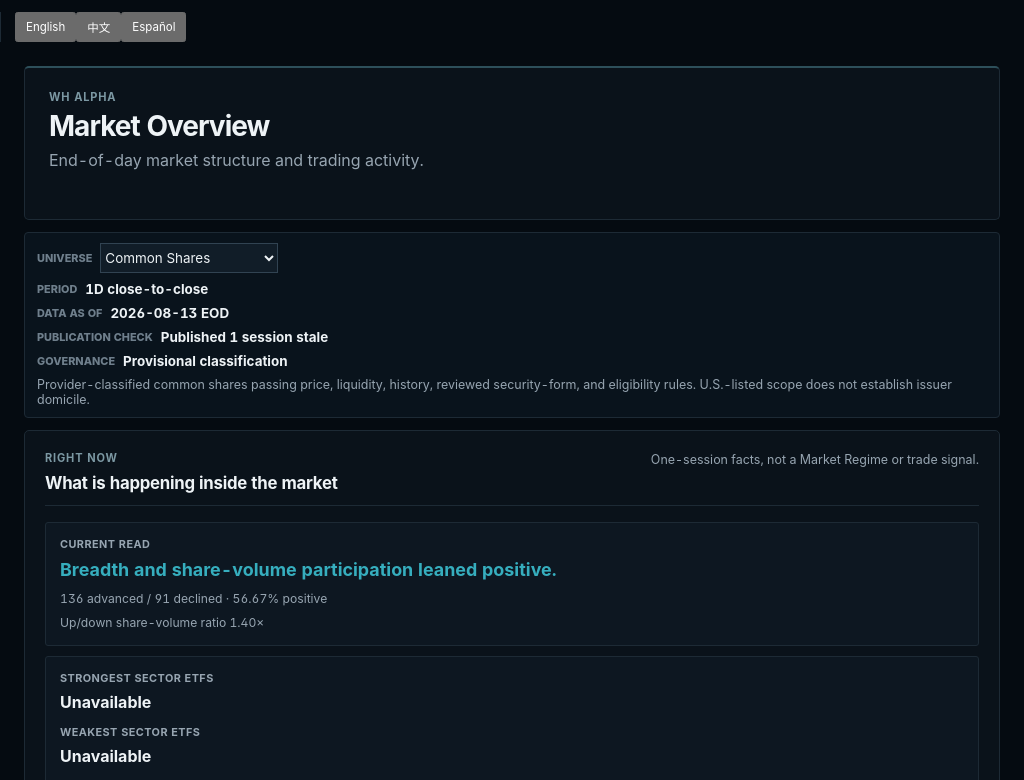
Test case: MarketDashboardPage › renders the identical dashboard data in Chinese without issuing new analytics requests
Expected: the dropdown named "Dashboard universe" shows "Common Shares", 100,243 -> 278,273
Click the button "中文" at (99, 27), box 76,12 -> 121,42
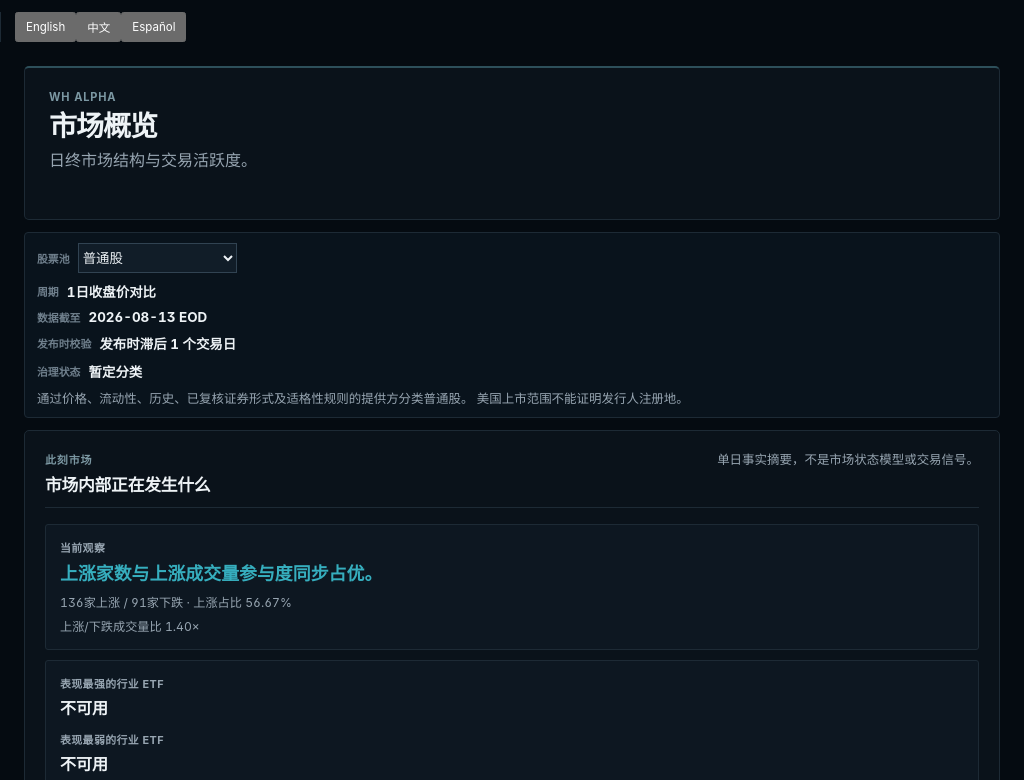
Expected: the dropdown named "仪表盘股票池" shows "普通股", 78,243 -> 237,273
